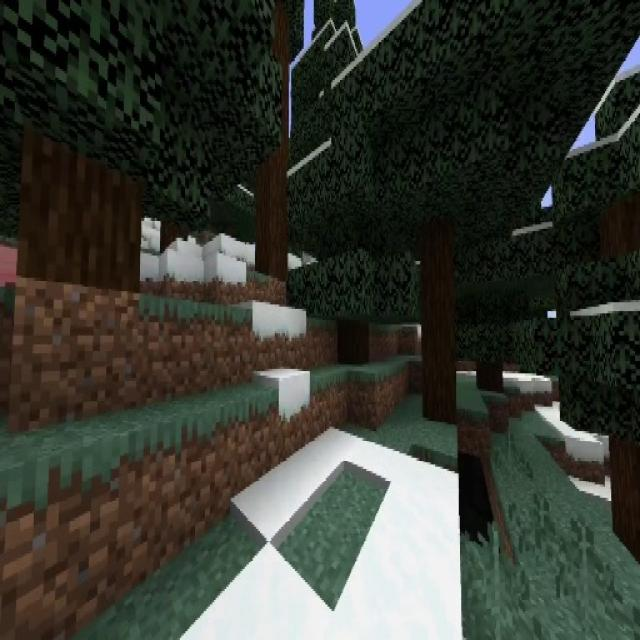spruce: (342, 0, 567, 423), (288, 22, 416, 364)
spruce_log: (25, 139, 138, 295), (422, 238, 457, 421), (254, 150, 290, 280), (608, 437, 640, 560), (337, 324, 367, 363), (477, 364, 502, 395)
